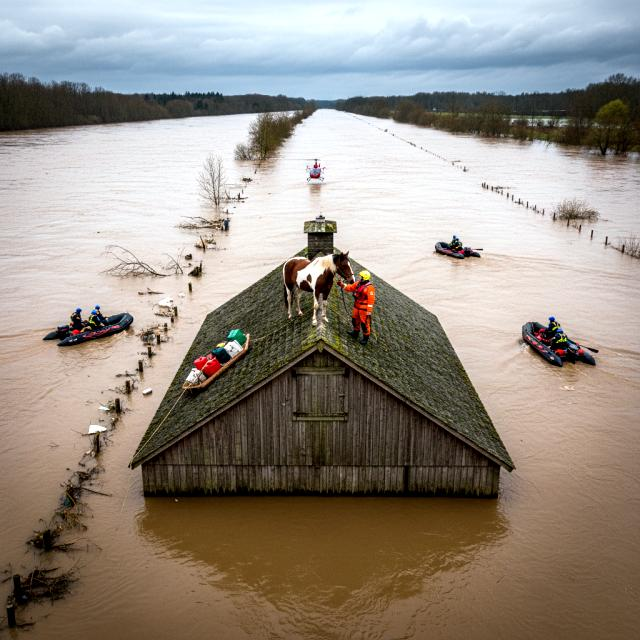horse: (274, 246, 364, 331)
rescuer: (341, 258, 384, 351), (550, 328, 572, 352), (92, 304, 111, 330), (69, 301, 83, 330), (86, 308, 99, 337), (546, 313, 560, 337), (454, 236, 463, 253), (450, 232, 458, 251)
